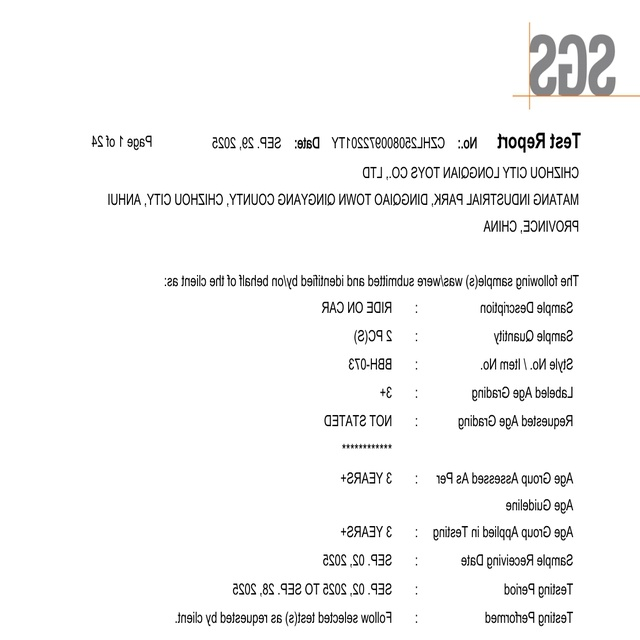sgs: (529, 34, 615, 96)
